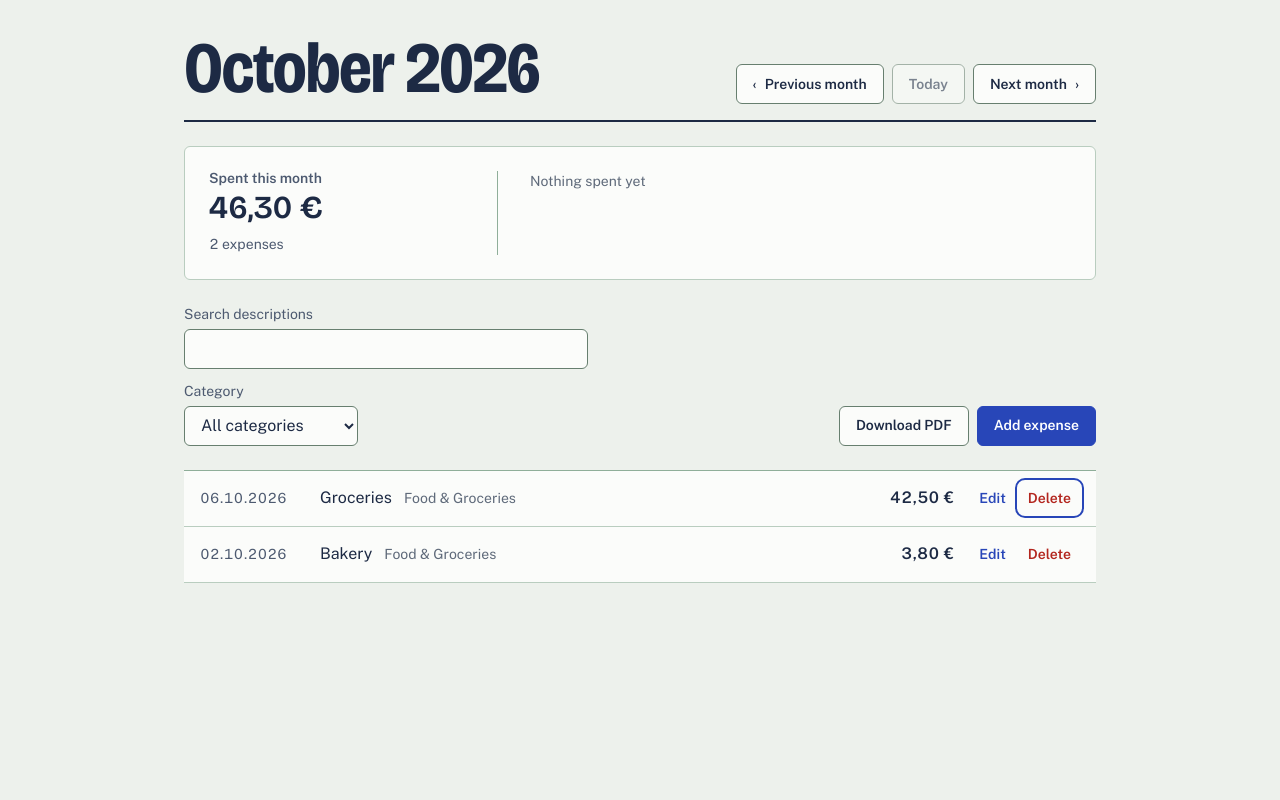
Test case: moves focus to the Expenses section, not <body>, after confirming a delete
expect the text "Groceries" is shown: met, box [320,486,392,510]
Click the button with aria-label "Delete Groceries" at (1049,498), box [1019,482,1080,514]
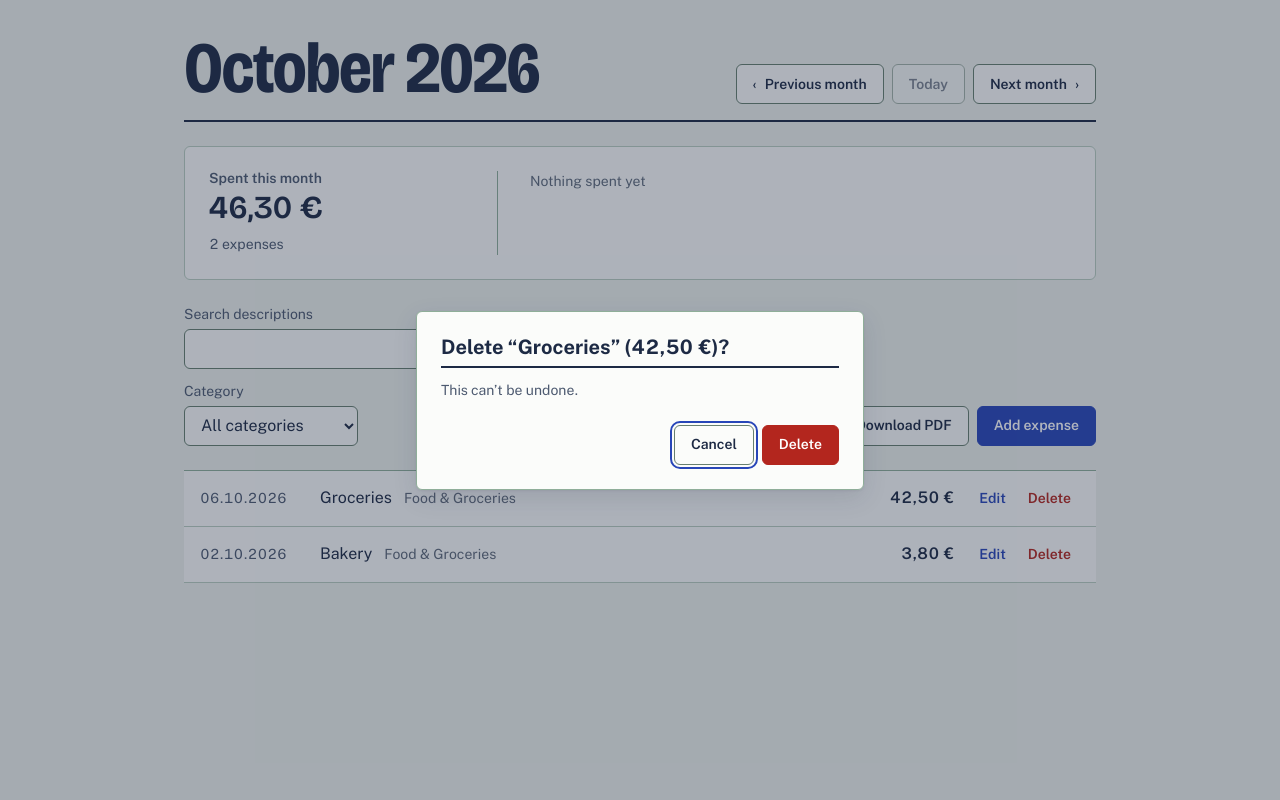
Click the button "Delete" at (800,444), box [762,424,839,464]
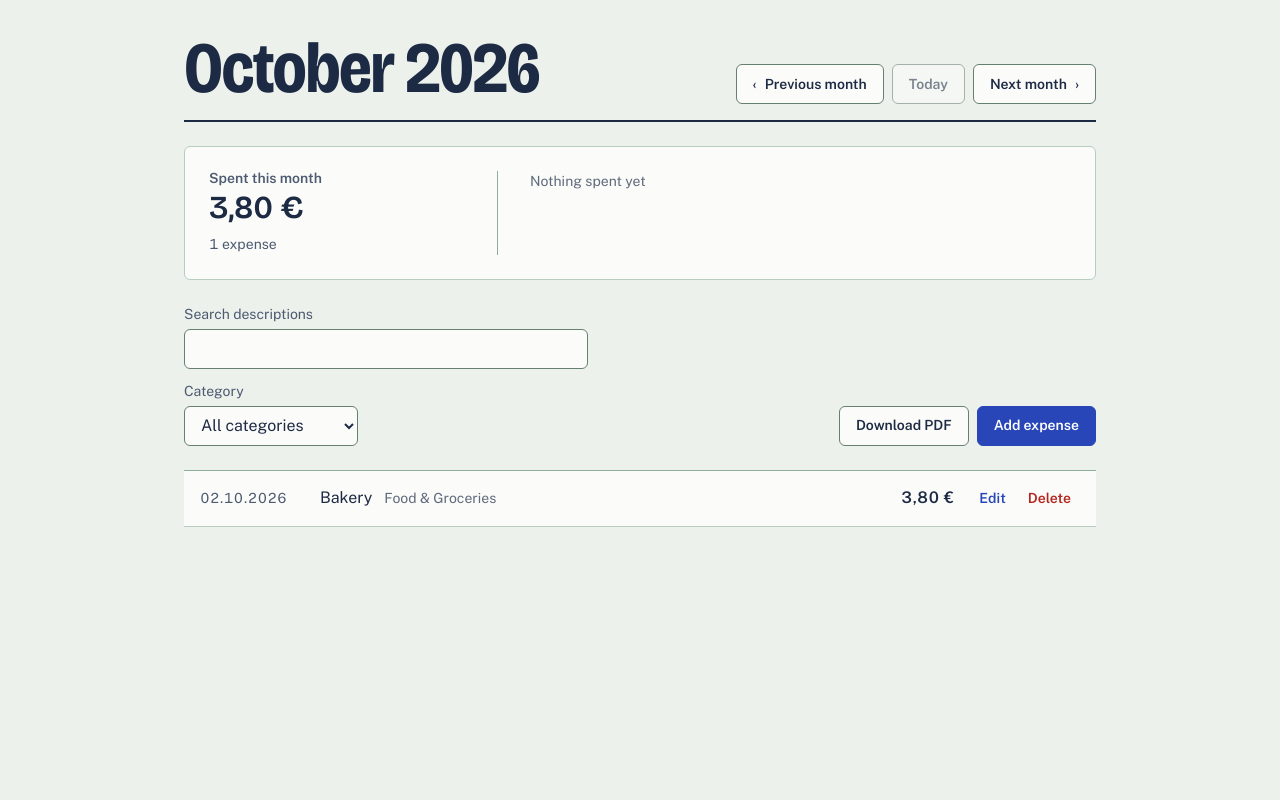
expect the text "Bakery" is shown: met, box [320,486,372,510]
expect the dialog is gone: met
